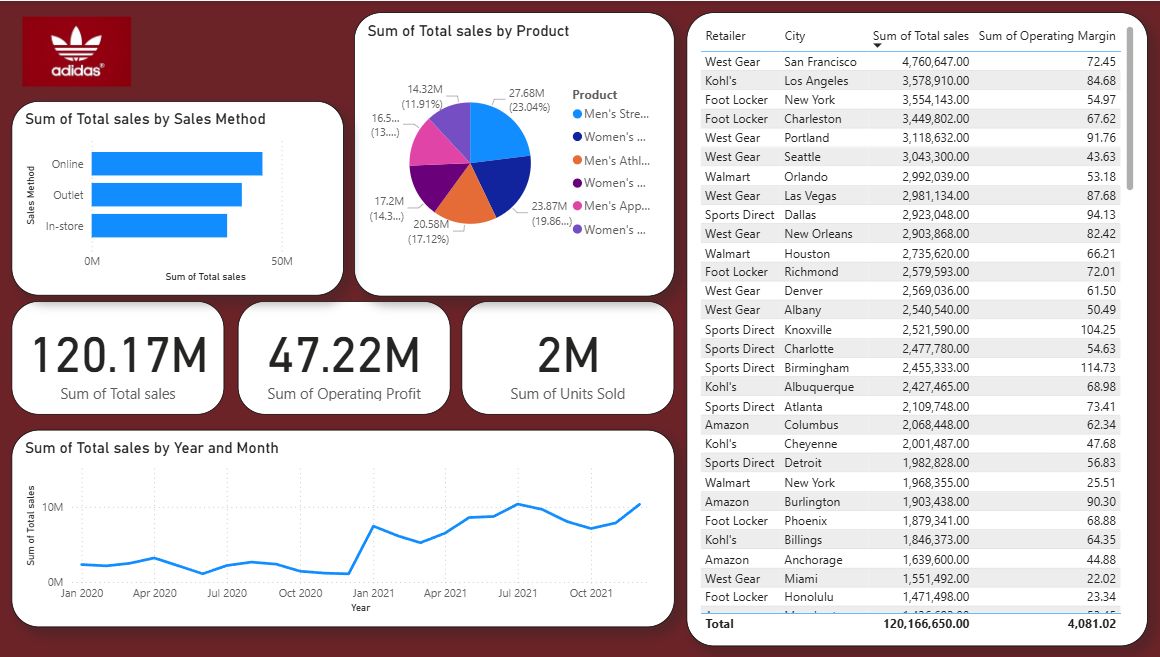

The dashboard page shown, as its layout file describes it:
{"tool":"powerbi","page":{"name":"•\tSales Performance analysis","canvas":[1280,720],"ordinal":1},"visuals":[{"type":"card","fields":{"Values":["Sum(Data Sales Adidas.Total sales)"]},"box":[13.3,330,233.3,125],"z":0},{"type":"card","fields":{"Values":["Sum(Data Sales Adidas.Operating Profit)"]},"box":[261.7,330,233.3,125],"z":1000},{"type":"card","fields":{"Values":["Sum(Data Sales Adidas.Units Sold)"]},"box":[508.3,330,233.3,125],"z":2000},{"type":"pieChart","fields":{"Category":["Data Sales Adidas.Product"],"Y":["Sum(Data Sales Adidas.Total sales)"]},"box":[390,11.7,351.7,311.7],"z":3000},{"type":"clusteredBarChart","fields":{"Category":["Data Sales Adidas.Sales Method"],"Y":["Sum(Data Sales Adidas.Total sales)"]},"box":[13.3,110,365,213.3],"z":4000},{"type":"lineChart","fields":{"Category":["Data Sales Adidas.Invoice Date.Variation.Date Hierarchy.Year","Data Sales Adidas.Invoice Date.Variation.Date Hierarchy.Month"],"Y":["Sum(Data Sales Adidas.Total sales)"]},"box":[13.3,470,728.3,216.7],"z":5000},{"type":"tableEx","fields":{"Values":["Data Sales Adidas.Retailer","Data Sales Adidas.City","Sum(Data Sales Adidas.Total sales)","Sum(Data Sales Adidas.Operating Margin)"]},"box":[754.7,12.3,506.3,695.7],"z":6000},{"type":"image","box":[13.3,11.7,143.3,86.7],"z":7000}]}

Visuals, with their boxes in screenshot pixels (x1, y1, x2, y2), scaled from the page's 1280x720 canvas onto the 1160x657 screenshot:
card - Sum(Data Sales Adidas.Total sales): Rect(12, 301, 223, 415)
card - Sum(Data Sales Adidas.Operating Profit): Rect(237, 301, 449, 415)
card - Sum(Data Sales Adidas.Units Sold): Rect(461, 301, 672, 415)
pieChart - Data Sales Adidas.Product x Sum(Data Sales Adidas.Total sales): Rect(353, 11, 672, 295)
clusteredBarChart - Data Sales Adidas.Sales Method x Sum(Data Sales Adidas.Total sales): Rect(12, 100, 343, 295)
lineChart - Data Sales Adidas.Invoice Date.Variation.Date Hierarchy.Year x Data Sales Adidas.Invoice Date.Variation.Date Hierarchy.Month: Rect(12, 429, 672, 627)
tableEx - Data Sales Adidas.Retailer x Data Sales Adidas.City: Rect(684, 11, 1143, 646)
image: Rect(12, 11, 142, 90)
